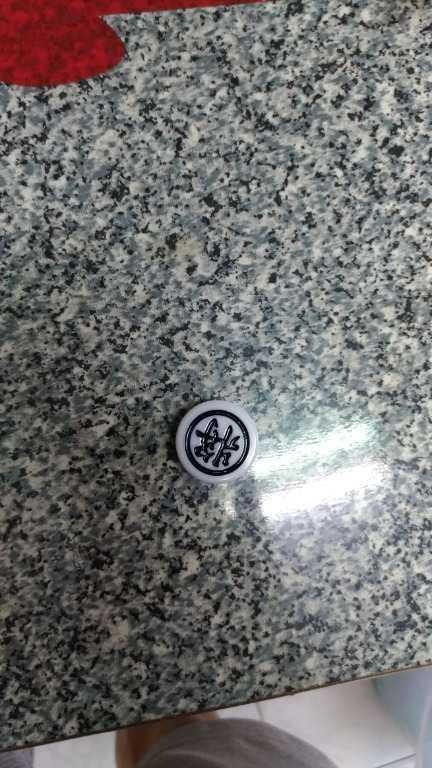b-king: (159, 395, 277, 493)
